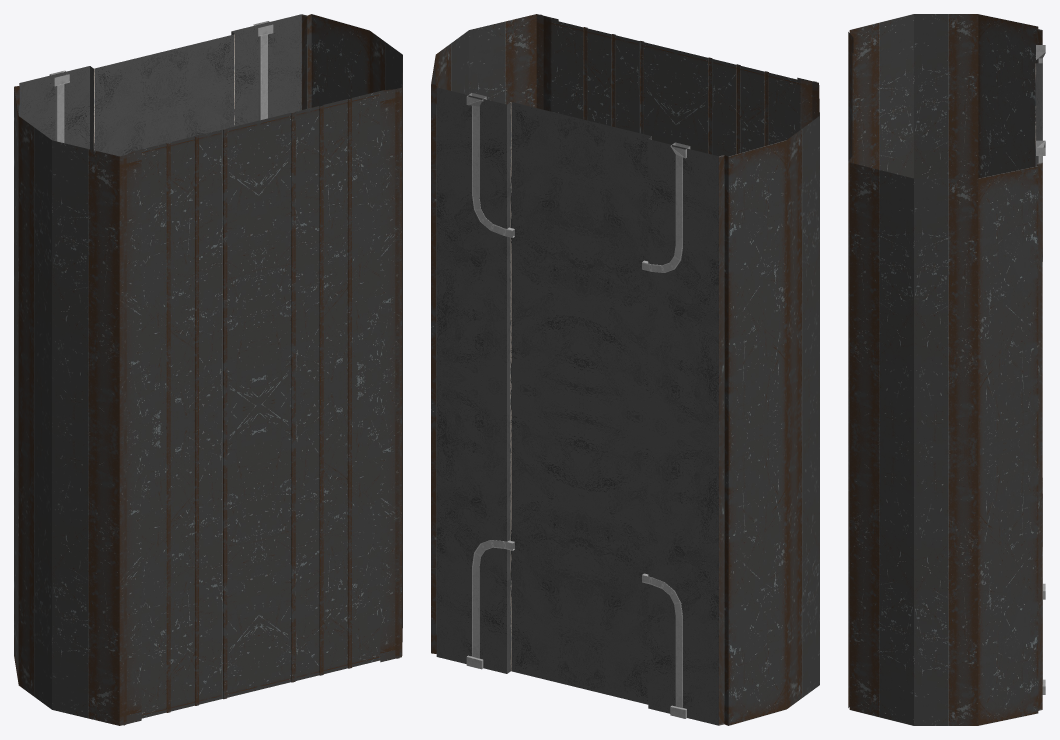
Rendered from Coridor_small_2.FBX.
3 renders of one model, left to right at view 1: azimuth 30°, elevation 25°; view 2: azimuth 150°, elevation 25°; view 3: azimuth 270°, elevation 25°, orthographic. The views are drawn at different scales.
Parts seen in each view (by area): view 1: Coridor_small_002; view 2: Coridor_small_002; view 3: Coridor_small_002.
Boxes of the visible parts, bbox=[...] form: Coridor_small_002: bbox=[14, 14, 402, 725]; Coridor_small_002: bbox=[431, 14, 819, 725]; Coridor_small_002: bbox=[848, 14, 1045, 725].
Size of the model in its own units: 6.18 by 9.58 by 3.13.
Materials: 1 (1 with a texture image).
